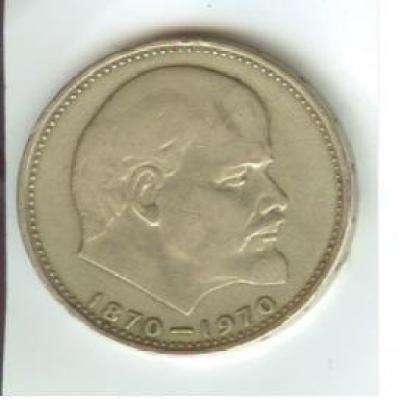numismatics: (16, 36, 359, 357)
